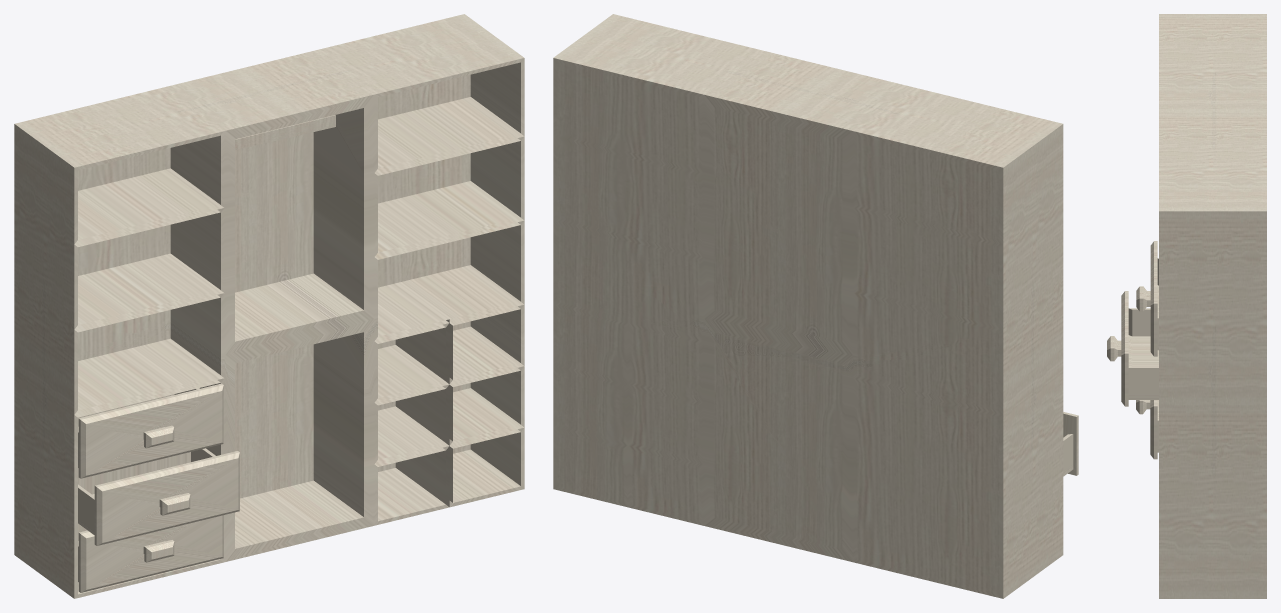
File: wardrobe-4.glb
3 renders of one model, left to right at view 1: azimuth 30°, elevation 25°; view 2: azimuth 150°, elevation 25°; view 3: azimuth 270°, elevation 25°, orthographic. The views are drawn at different scales.
Visible parts, largest first — view 1: Box001, Object004_14 - Polished Aluminum_0, Object001_14 - Polished Aluminum_0, Object003_14 - Polished Aluminum_0; view 2: Box001, Object004_14 - Polished Aluminum_0; view 3: Box001, Object004_14 - Polished Aluminum_0, Object001_14 - Polished Aluminum_0, Object003_14 - Polished Aluminum_0.
Boxes of the visible parts, x1=… form: Box001: x1=14, y1=14, x2=524, y2=598; Object004_14 - Polished Aluminum_0: x1=78, y1=448, x2=239, y2=545; Object001_14 - Polished Aluminum_0: x1=78, y1=383, x2=223, y2=478; Object003_14 - Polished Aluminum_0: x1=78, y1=515, x2=223, y2=592; Box001: x1=553, y1=14, x2=1063, y2=598; Object004_14 - Polished Aluminum_0: x1=1063, y1=412, x2=1078, y2=476; Box001: x1=1159, y1=14, x2=1266, y2=598; Object004_14 - Polished Aluminum_0: x1=1107, y1=291, x2=1158, y2=406; Object001_14 - Polished Aluminum_0: x1=1136, y1=241, x2=1158, y2=356; Object003_14 - Polished Aluminum_0: x1=1136, y1=400, x2=1158, y2=459.
Bounding box in the file's own units: 130 × 119 × 44.48.
2 materials, 2 textured.
